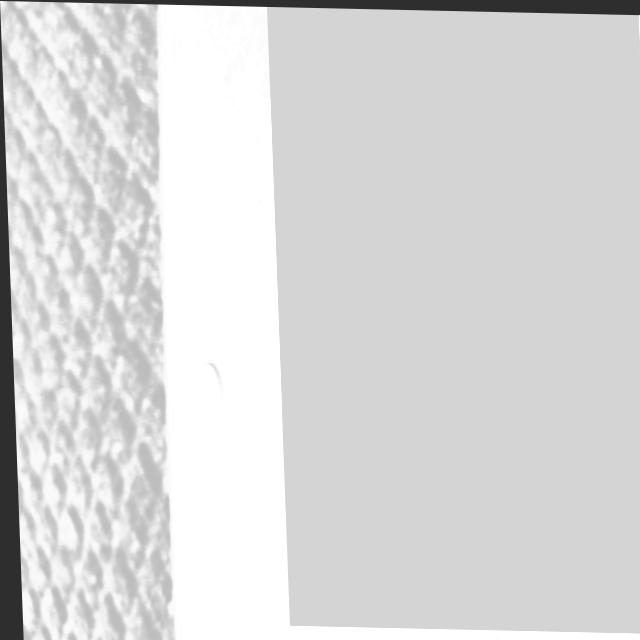qr_code: (267, 5, 640, 631)
